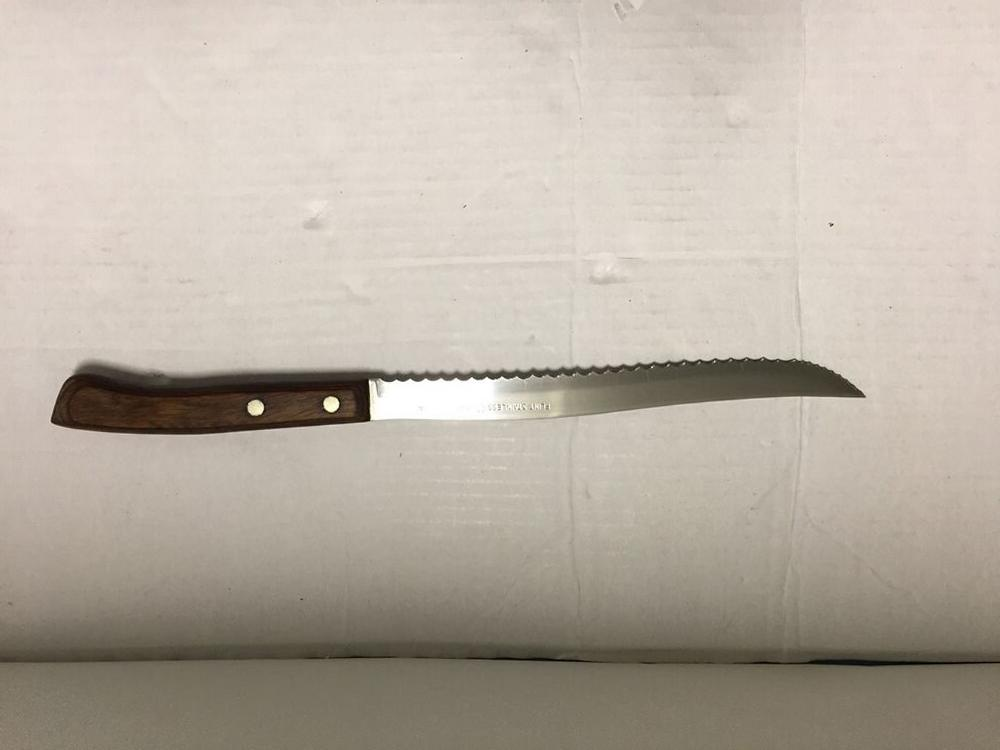knife: (53, 358, 867, 434)
